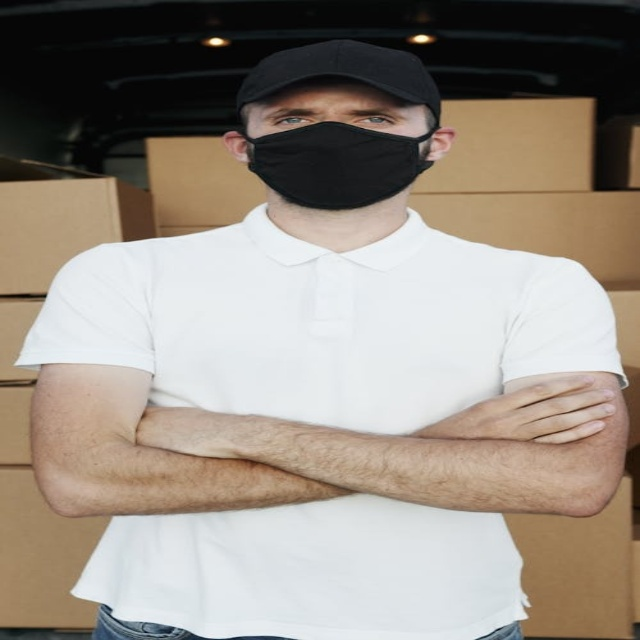Mascara: (241, 119, 435, 209)
Sin_gafas: (275, 116, 313, 125), (357, 116, 394, 125)
Sin_guantes: (420, 371, 626, 441), (138, 397, 285, 465)
